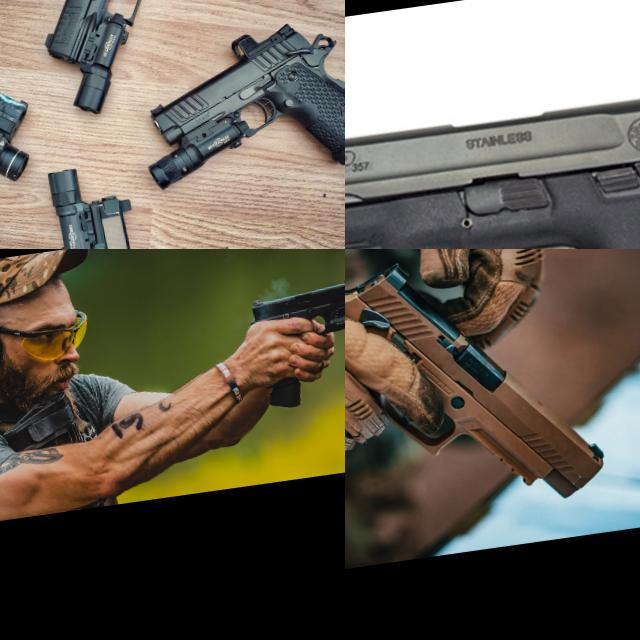handgun: (345, 249, 613, 533), (345, 48, 640, 249), (138, 9, 345, 189), (22, 0, 248, 102), (0, 0, 120, 174), (0, 187, 181, 249), (241, 270, 345, 347)
